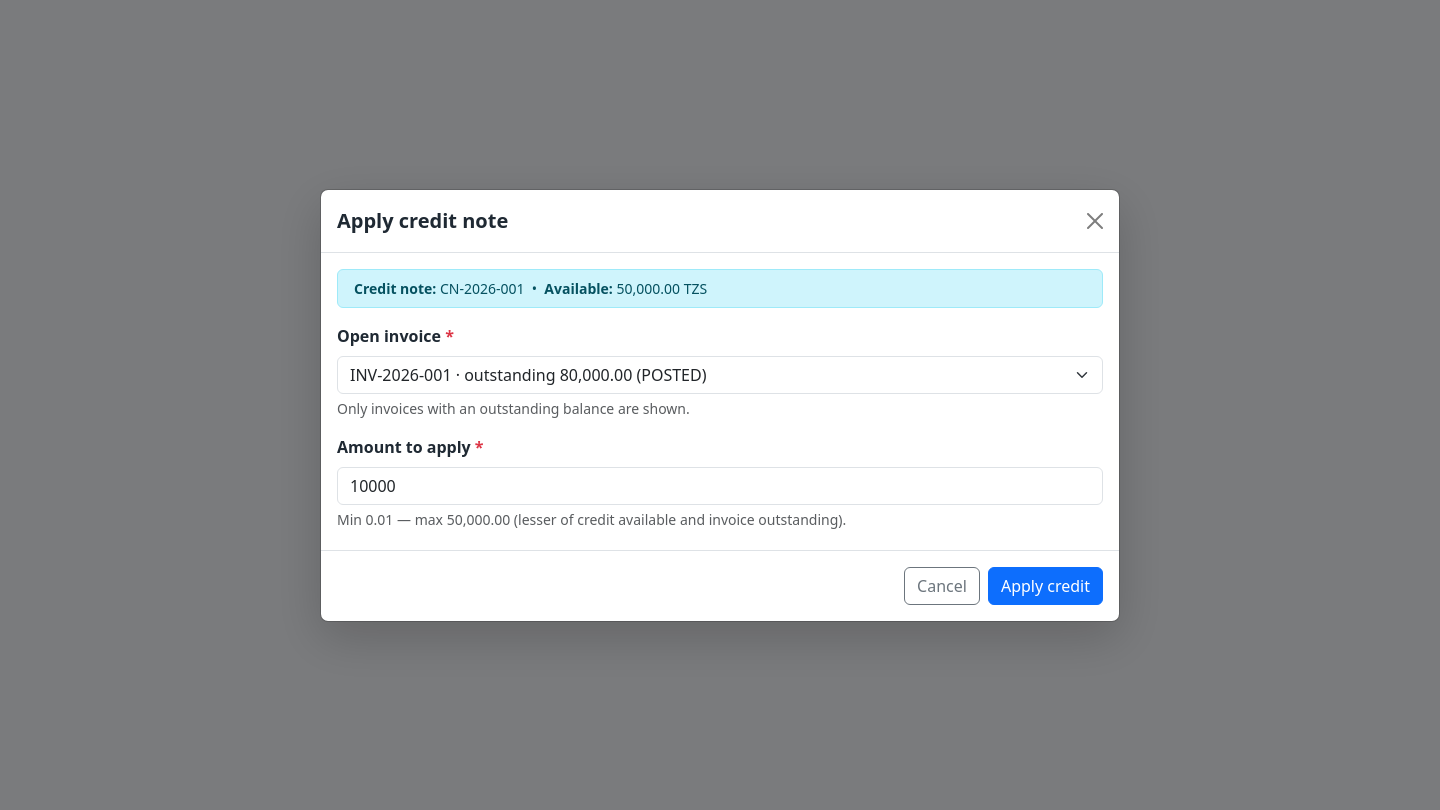
CreditNoteApplyModalComponent › error handling › maps 422 with FULLY_ALLOCATED message to a banner error
Click the submit button: (1045, 586) [988,566,1103,604]
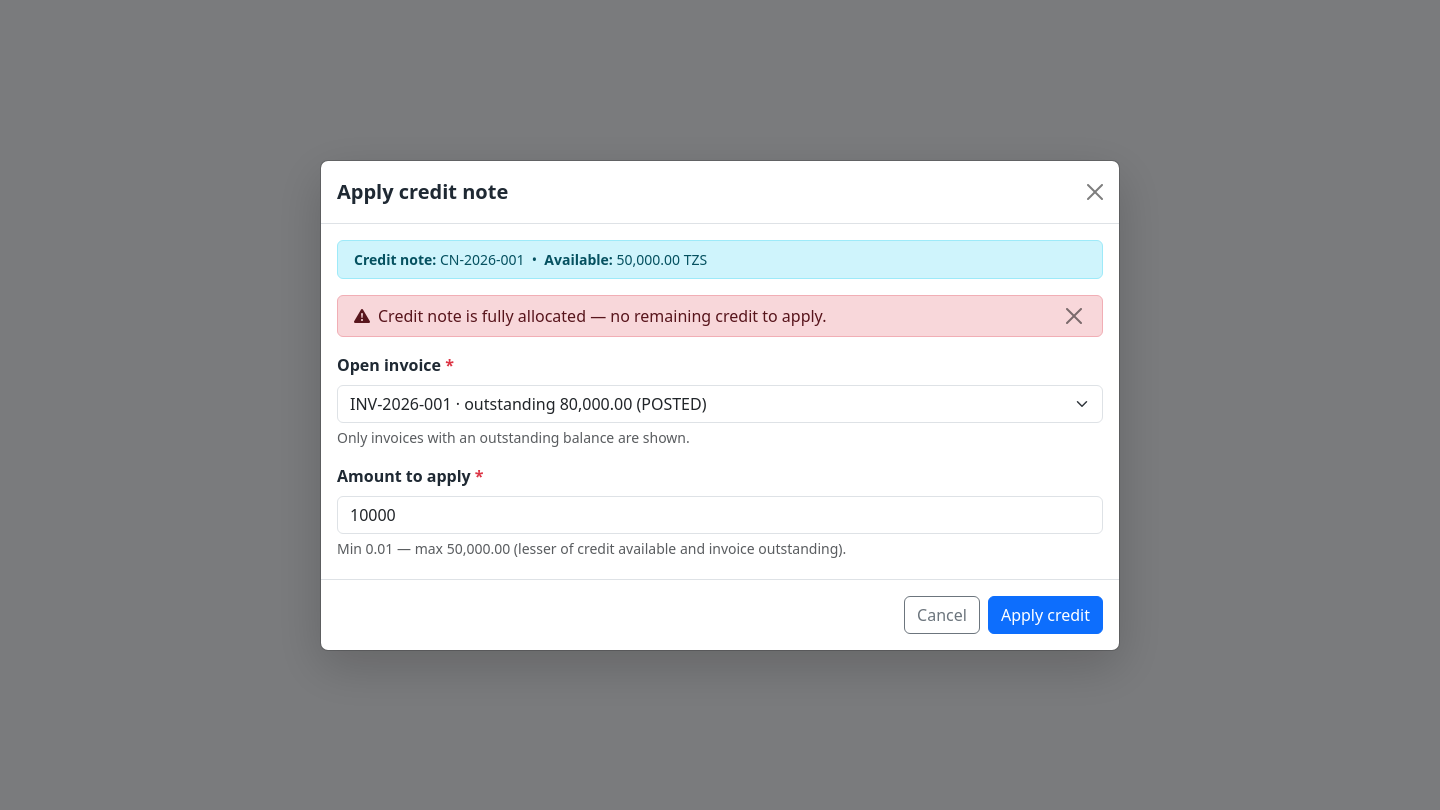
Expected: the message "Credit note is fully allocated — no remaining credit to apply." is shown, [337,294,1103,336]
Expected: the message with class "alert-danger" shows "fully allocated", [378,304,826,326]
